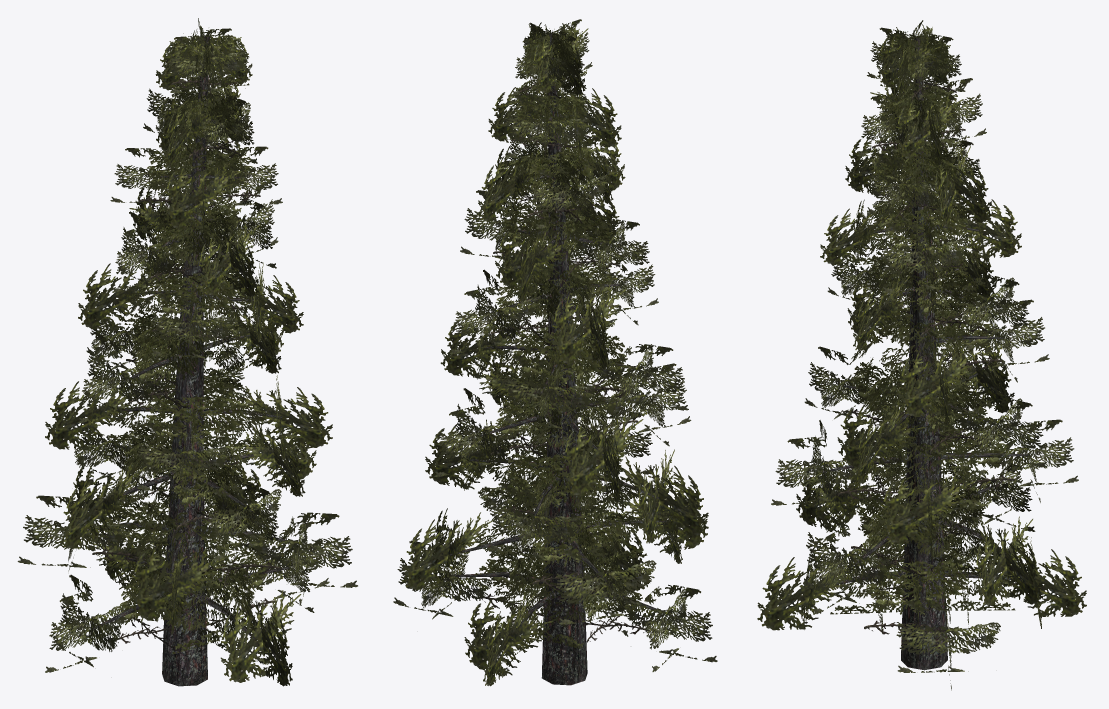
The model's file is conifer_v5_young_01_lod1.glb.
The picture shows the model from 3 angles, left to right: view 1: azimuth 30°, elevation 25°; view 2: azimuth 150°, elevation 25°; view 3: azimuth 270°, elevation 25°; orthographic projection.
Visible parts, largest first — view 1: foliage_cards, wood_geometry; view 2: foliage_cards, wood_geometry; view 3: foliage_cards, wood_geometry.
Part boxes in pixels (x1,y1,x2,y2): foliage_cards: [17, 18, 357, 686]; wood_geometry: [86, 36, 303, 686]; foliage_cards: [393, 19, 717, 686]; wood_geometry: [449, 33, 672, 685]; foliage_cards: [757, 20, 1086, 690]; wood_geometry: [822, 37, 1030, 670].
Bounding box in the file's own units: 3.77 × 7.44 × 3.67.
2 materials, 2 textured.
